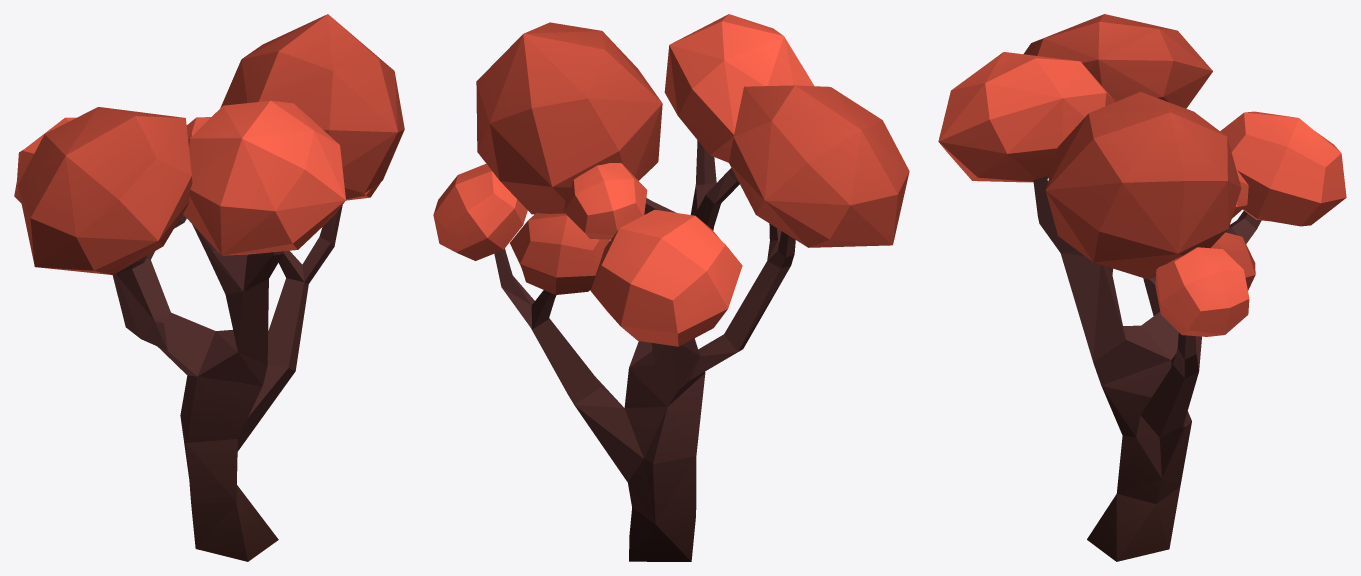
Rendered from RedTree3.fbx.
3 renders of one model, left to right at view 1: azimuth 30°, elevation 25°; view 2: azimuth 150°, elevation 25°; view 3: azimuth 270°, elevation 25°, orthographic. The views are drawn at different scales.
Parts seen in each view (by area): view 1: RedTree3; view 2: RedTree3; view 3: RedTree3.
Part boxes in pixels (left/top/right/bottom): RedTree3: left=14, top=14, right=404, bottom=561; RedTree3: left=433, top=14, right=909, bottom=561; RedTree3: left=938, top=14, right=1346, bottom=561.
Bounding box in the file's own units: 384 × 450 × 342.
